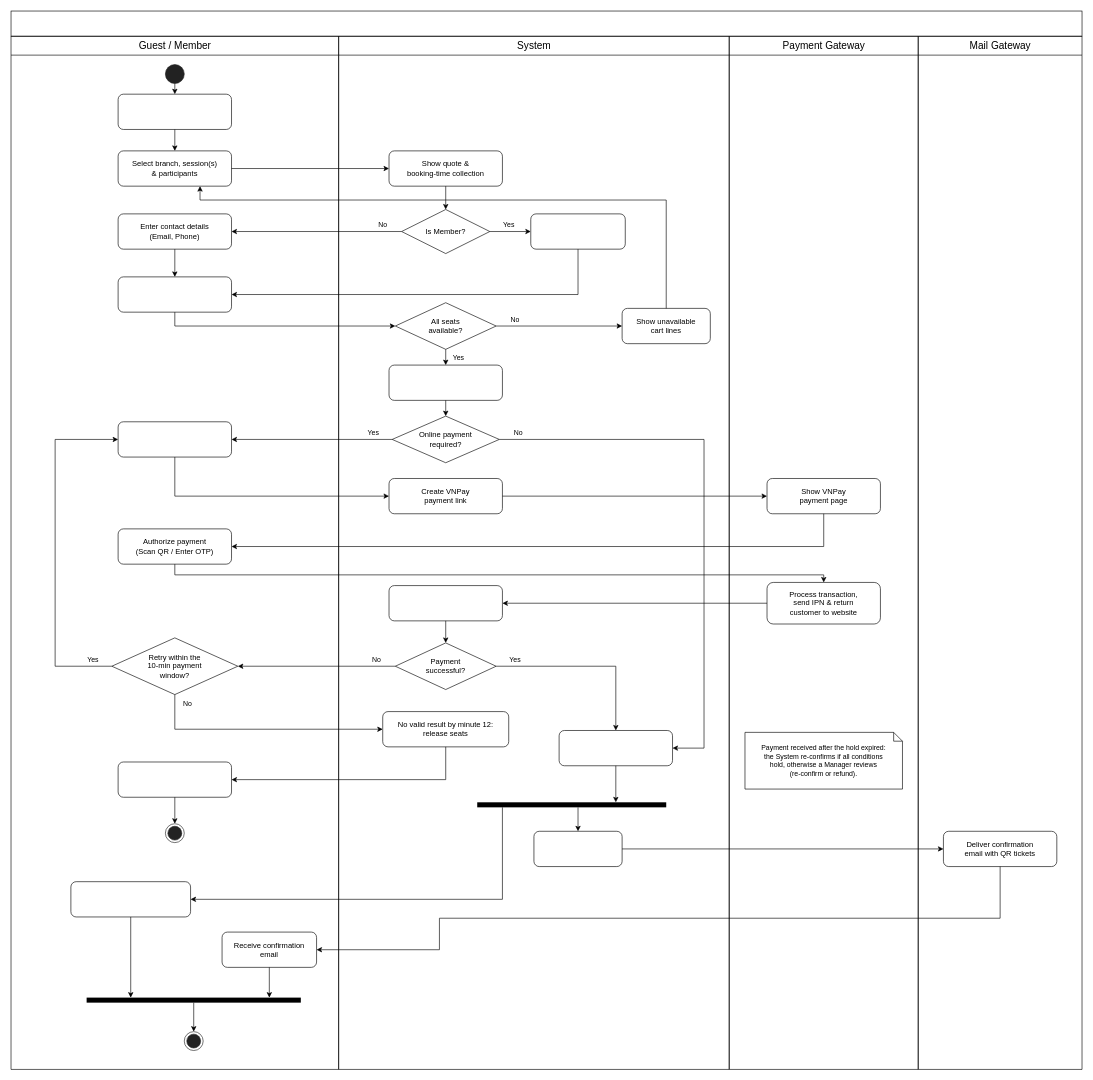
This 1093x1080 diagram has some shape labels left out. The shapes that lost their labels are listed below. From the top down, each one's centre as x and y in pixels, then its label:
pixel 546 23: Workshop Booking
pixel 174 111: Browse & select workshop package
pixel 577 231: Auto-fill profile contact details
pixel 174 294: Click "Confirm Booking"
pixel 445 382: Hold all seats (12 minutes)
pixel 174 439: Click "Pay via VNPay" (10-min countdown)
pixel 445 603: Verify signed result (IPN / QueryDR)
pixel 615 748: Confirm booking & issue QR tickets
pixel 174 779: Show "Booking Expired" notice
pixel 577 849: Send email dispatch request
pixel 130 899: Display "Booking Confirmed" screen & QR tickets
